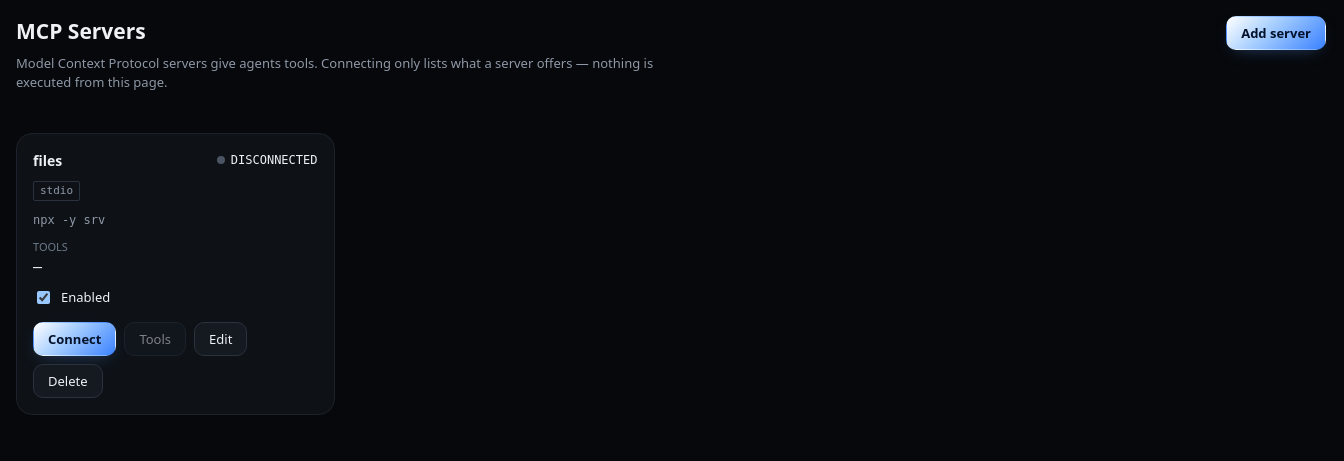
Test: McpPage › a failed connect shows the server's error on the card (not a page error)
Expected: the element with test id "mcp-card-files" is shown, [16,132,334,414]
Step 1. Click the button "Connect" → [75, 338], box [33,322,116,356]
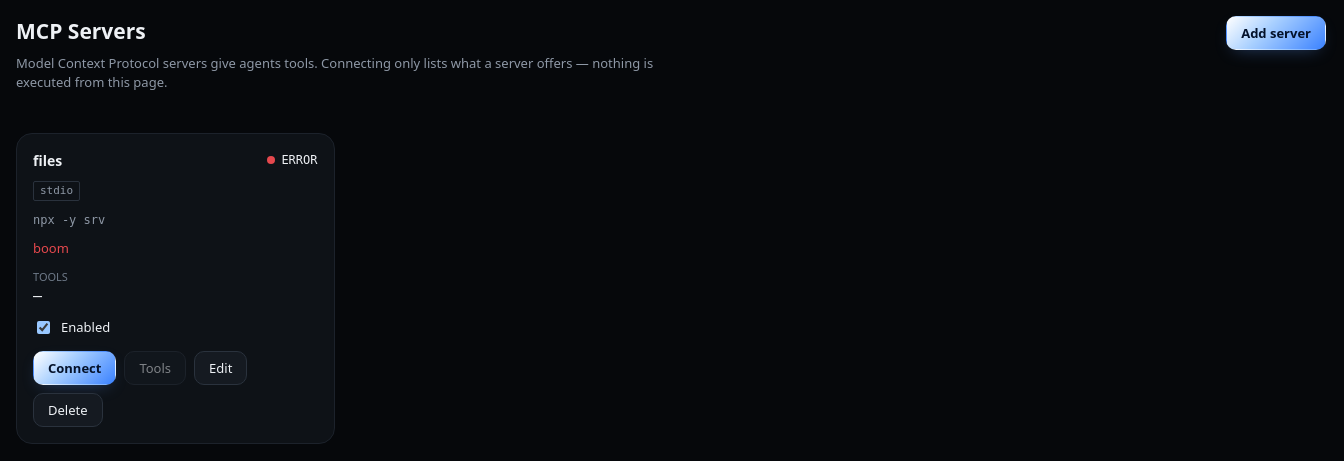
Expected: the button "Connect" is enabled, [33,351,116,385]
Result: the message reads "boom" at [33,239,69,257]
